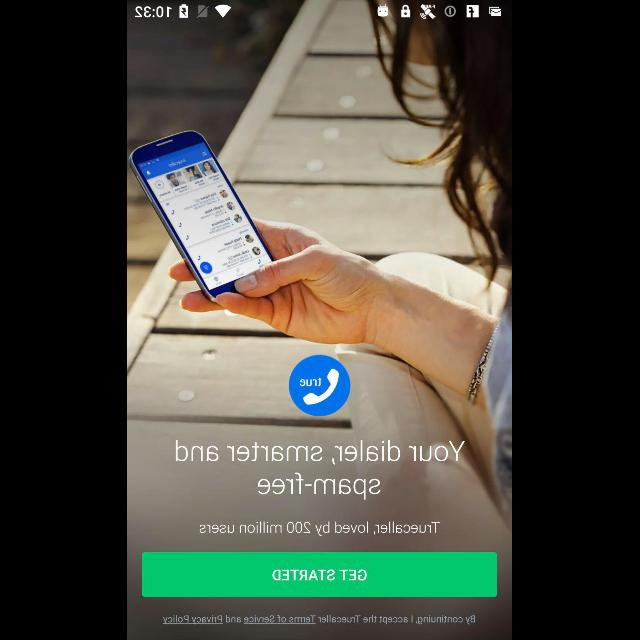backgroundimage: (128, 21, 512, 640)
image: (289, 355, 351, 417)
text: (176, 440, 466, 500), (200, 522, 442, 536), (164, 615, 476, 625)
textbutton: (142, 552, 498, 598)
uppertaskbar: (128, 1, 512, 20)
